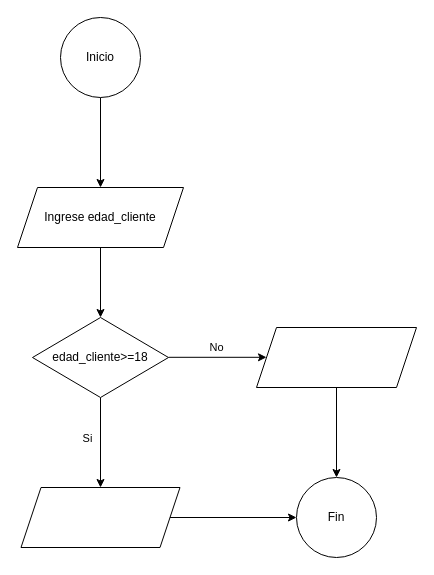
The diagram is 434 pixels wide and 575 high, and some of its shapes have lost their labels. Here are the shapes that lost their labels. From the top down, the box of each, then its label:
(256, 326, 416, 388): No puede Ingresar a la discoteca
(20, 486, 180, 548): Puede Ingresar a la discoteca
